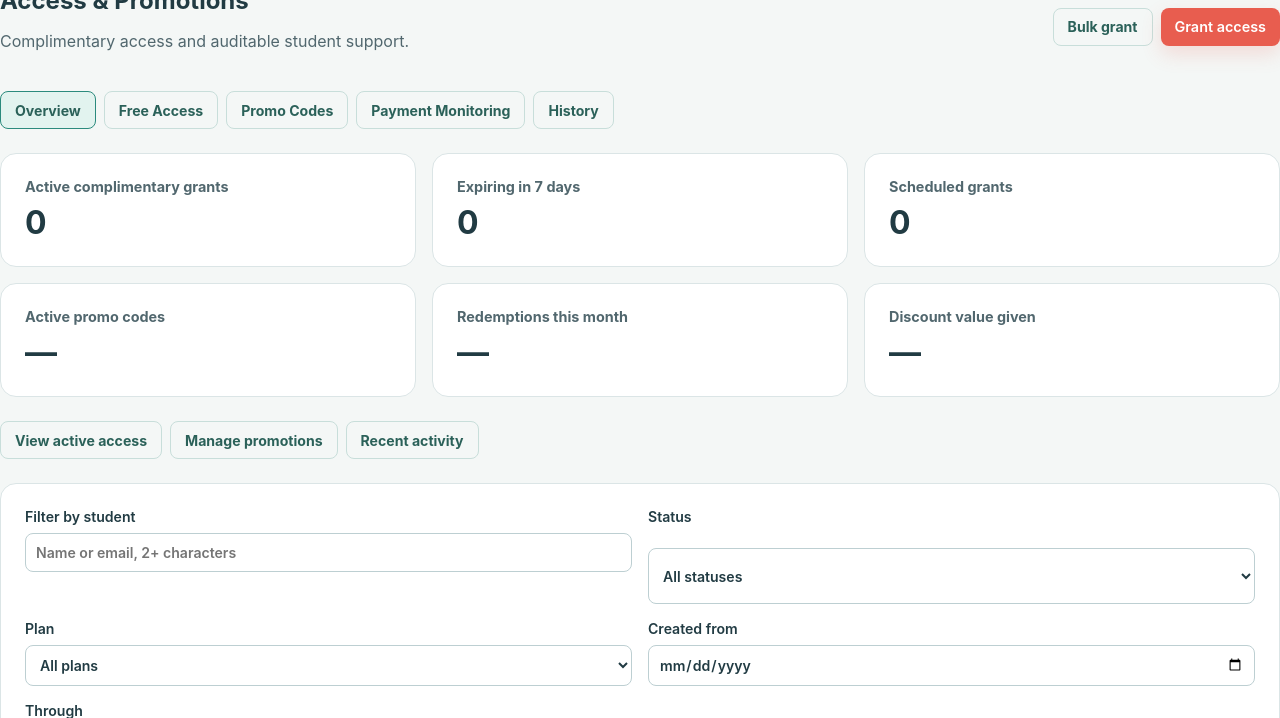
Scenario: previews bulk entries without executing until confirmation
Click the button "Bulk grant" at (1103, 26), box [1053,8,1152,46]
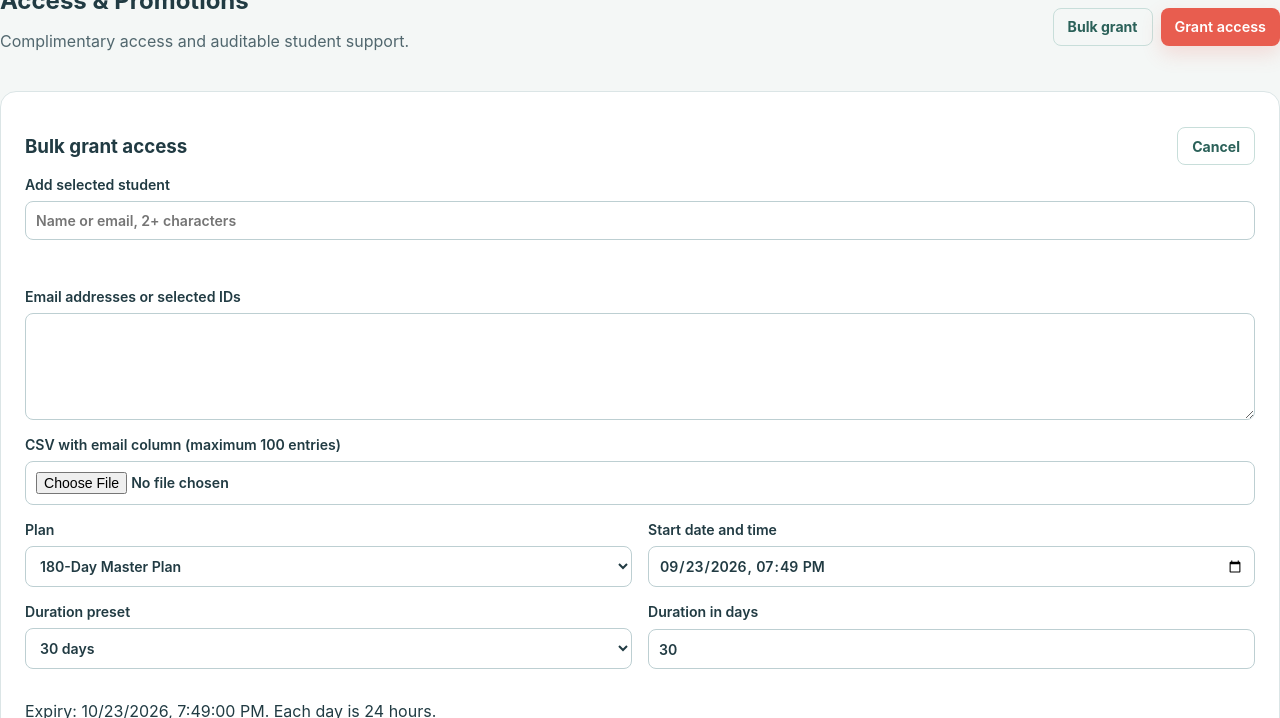
Type "student@example.test" into the text box labelled "Email addresses or selected IDs" at (640, 367), box [25,313,1255,420]
(page scrolled)
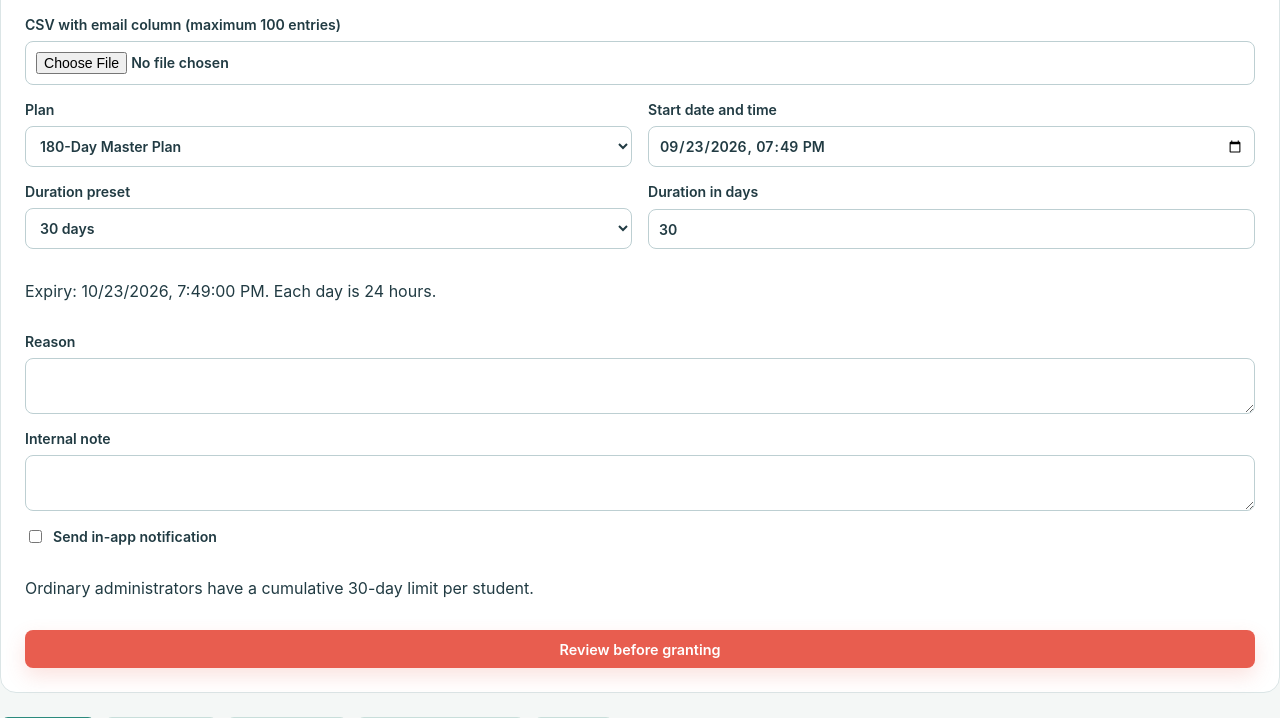
Type "Cohort support" into the text box labelled "Reason" at (640, 386), box [25,358,1255,414]
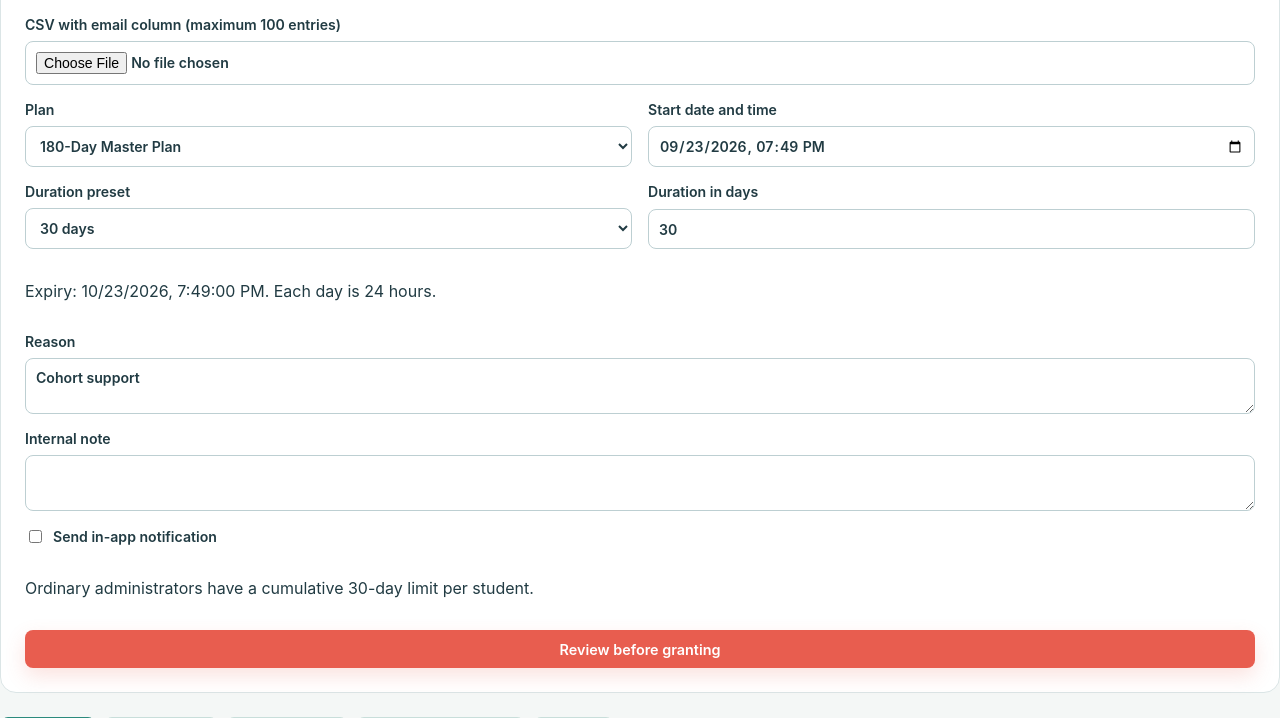
Click the button "Review before granting" at (640, 649), box [25,630,1255,668]
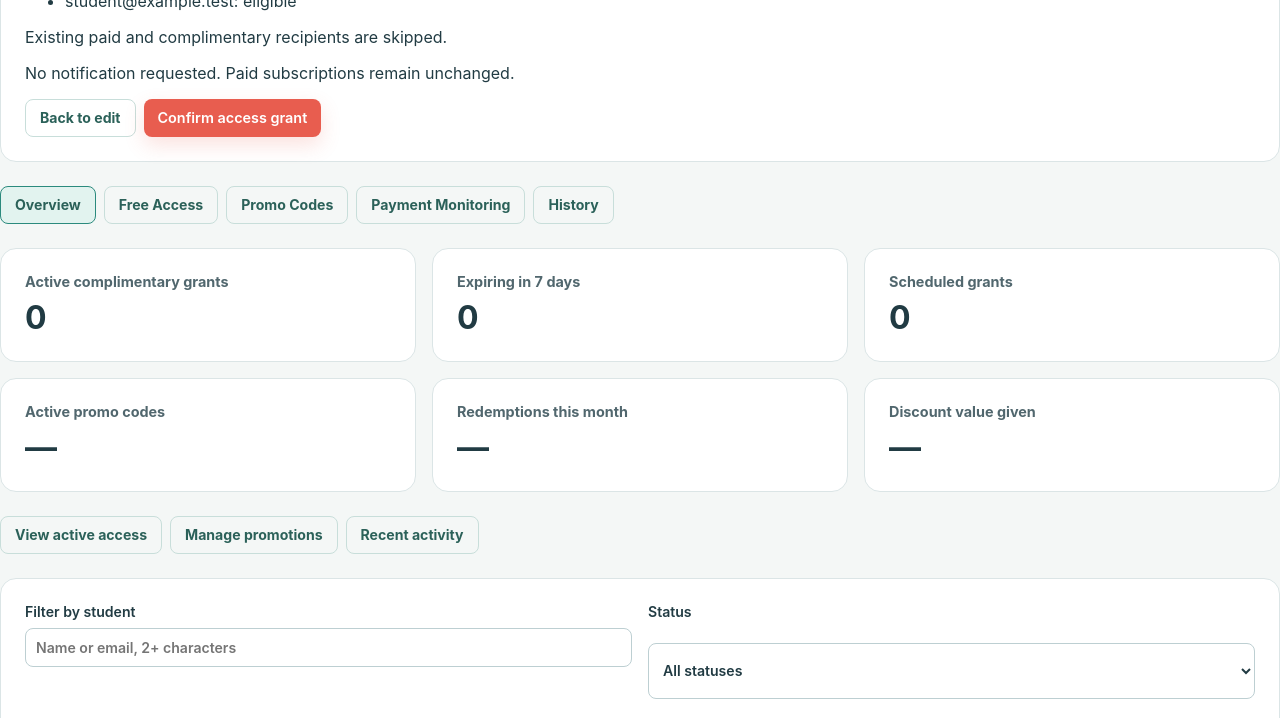
Click the button "Confirm access grant" at (232, 118), box [144,99,321,137]
(page scrolled)
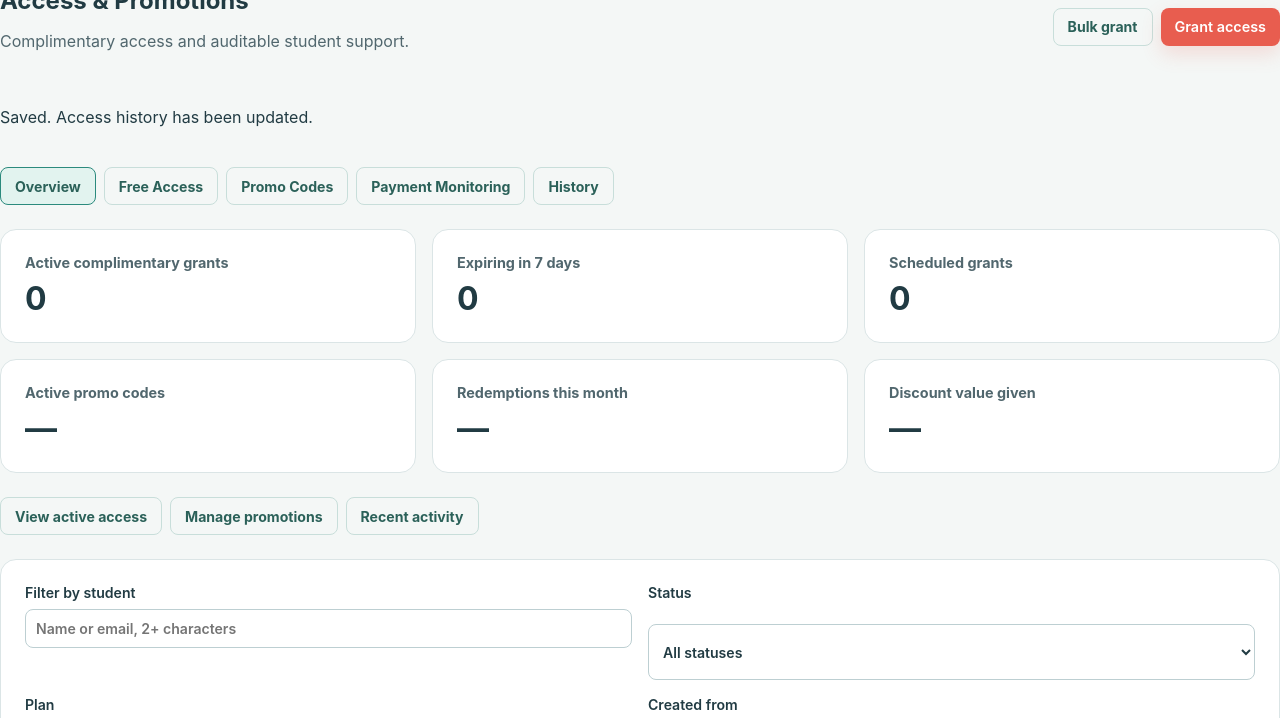
Expected: the text "Saved. Access history has been updated." is shown, [0,107,313,127]
